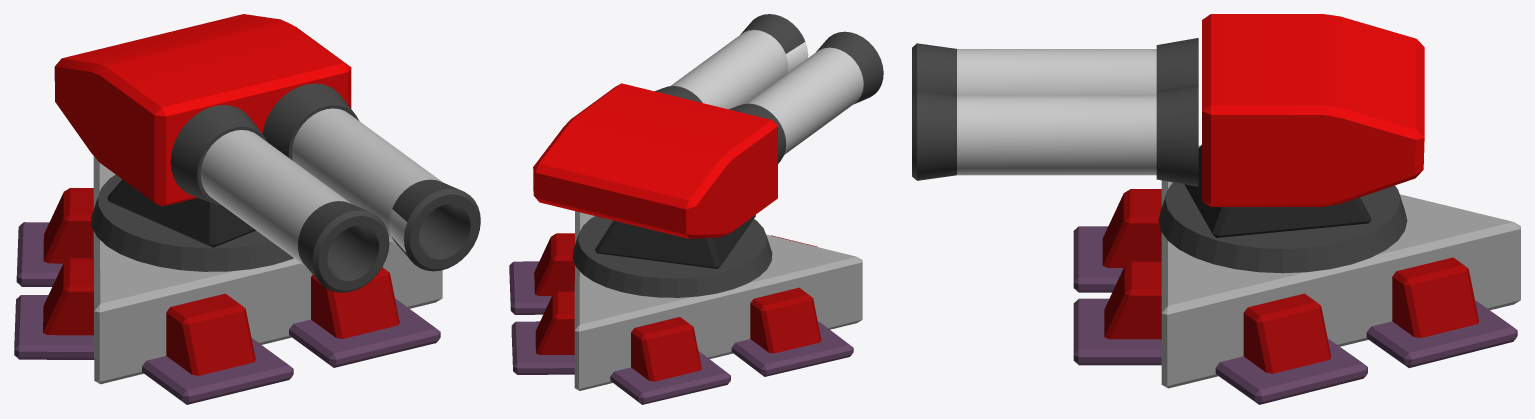
The model's file is cannon.fbx.
The picture shows the model from 3 angles, left to right: view 1: azimuth 30°, elevation 25°; view 2: azimuth 150°, elevation 25°; view 3: azimuth 270°, elevation 25°; orthographic projection. The views are drawn at different scales.
Parts seen in each view (by area): view 1: turret, base; view 2: turret, base; view 3: turret, base.
Part boxes in pixels (box(x1,y1,x2,y2)): turret: box(54, 14, 480, 292); base: box(14, 156, 442, 404); turret: box(533, 14, 883, 268); base: box(509, 211, 862, 404); turret: box(912, 14, 1424, 237); base: box(1073, 145, 1520, 404).
Size of the model in its own units: 7784 by 4321 by 9623.
